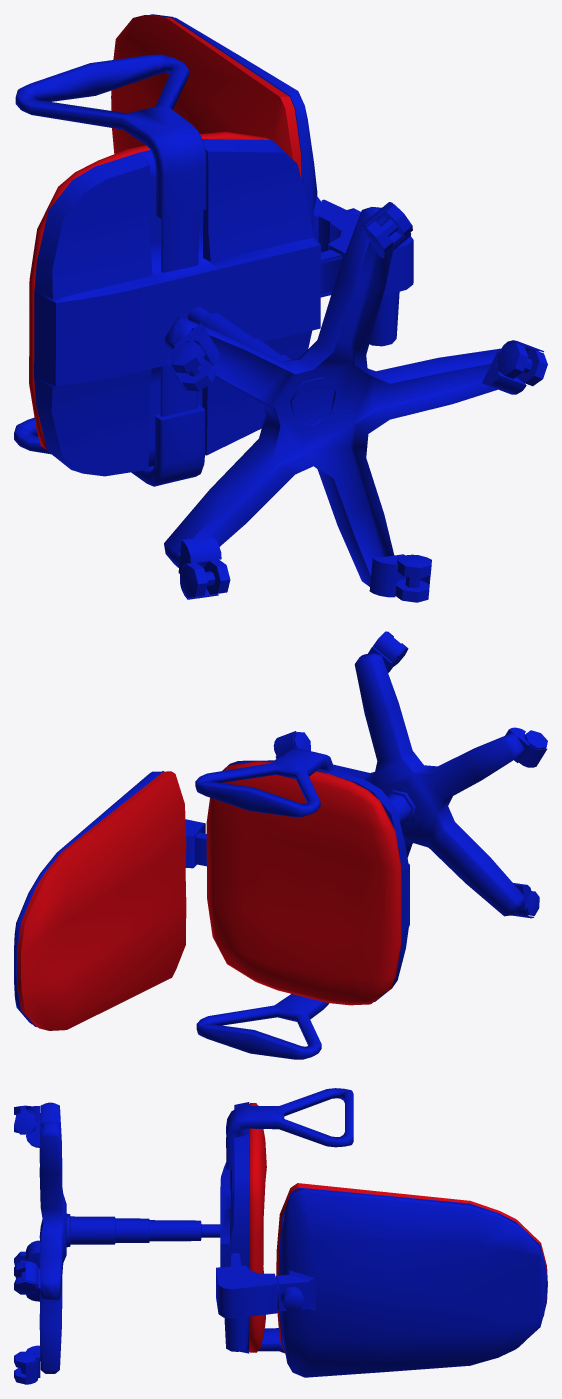
File: chair_2.FBX
3 views of the same model, one above another, from view 1: azimuth 30°, elevation 25°; view 2: azimuth 150°, elevation 25°; view 3: azimuth 270°, elevation 25° (orthographic). The views are drawn at different scales.
Parts seen in each view (by area): view 1: wheels; view 2: wheels; view 3: wheels.
Boxes of the visible parts, left/top/right/bottom form: wheels: left=14, top=14, right=547, bottom=602; wheels: left=14, top=631, right=547, bottom=1059; wheels: left=14, top=1088, right=547, bottom=1384.
Size of the model in its own units: 60.19 by 58 by 106.
